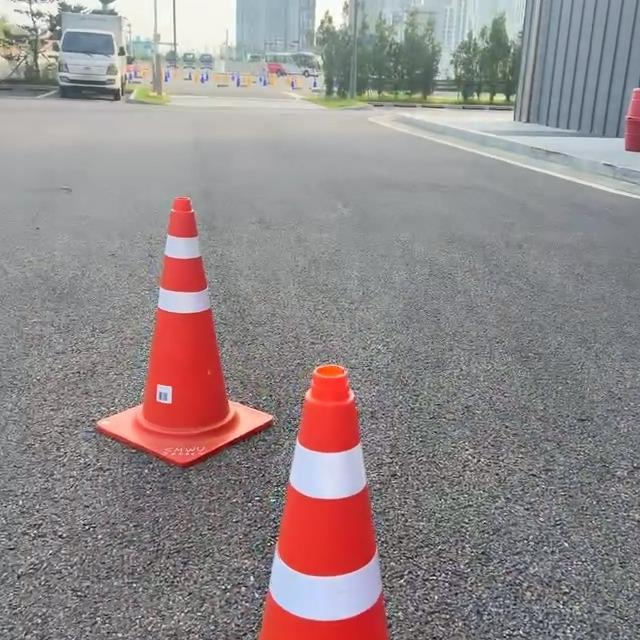fallen_object: (173, 279, 452, 640), (60, 166, 276, 441)
